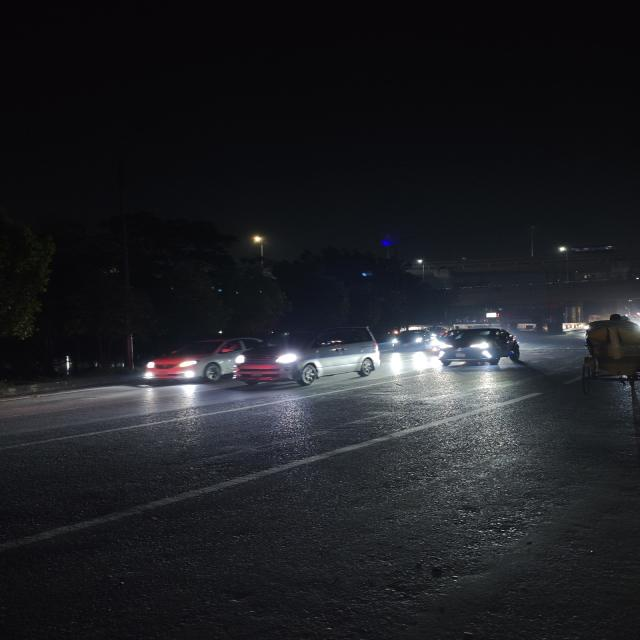car: (229, 326, 383, 392), (139, 334, 256, 392), (434, 325, 525, 371), (388, 327, 434, 353)
rickshaw: (570, 310, 640, 402)
